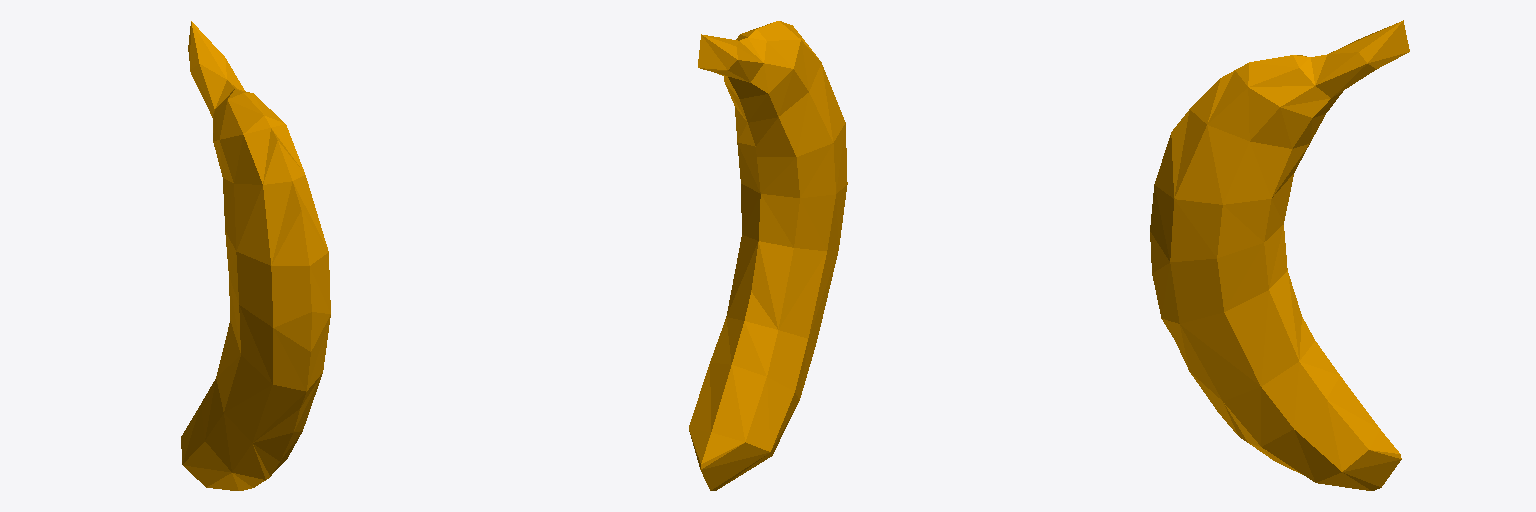
The robot description file, URDF, robot "a62129fa3fe48f0197d8a3751675d89f":
<?xml version="1.0"?>
<robot name="a62129fa3fe48f0197d8a3751675d89f">
  <link name="base_link">
    <contact>
      <lateral_friction value="1.0"/>
      <rolling_friction value="0.0"/>
      <contact_cfm value="0.0"/>
      <contact_erp value="1.0"/>
    </contact>
    <inertial>
      <mass value="0.0139879625497"/>
      <inertia ixx="1" ixy="0" ixz="0" iyy="1" iyz="0" izz="1"/>
    </inertial>
    <visual>
      <geometry>
        <mesh filename="a62129fa3fe48f0197d8a3751675d89f_visual.obj"/>
      </geometry>
    </visual>
    <collision>
      <geometry>
        <mesh filename="a62129fa3fe48f0197d8a3751675d89f_collision.obj"/>
      </geometry>
    </collision>
  </link>
</robot>

--- Render facts (derived) ---
Views: 3 orthographic renders of the robot side by side, from view 1: azimuth 30°, elevation 25°; view 2: azimuth 150°, elevation 25°; view 3: azimuth 270°, elevation 25°.
Model a62129fa3fe48f0197d8a3751675d89f with 1 links and 0 joints (none), rooted at base_link, posed all joints at 0.
Links seen in each view (by area): view 1: base_link; view 2: base_link; view 3: base_link.
Boxes of the visible links, box(x1,y1,x2,y2) form: base_link: box(181, 21, 330, 490); base_link: box(689, 21, 847, 490); base_link: box(1150, 20, 1409, 490).
Bounding box of the posed robot: 0.0169 × 0.045 × 0.0898 m (x, y, z).
Meshes: 1 distinct files referenced, 1 mesh visuals loaded (1 OBJ).